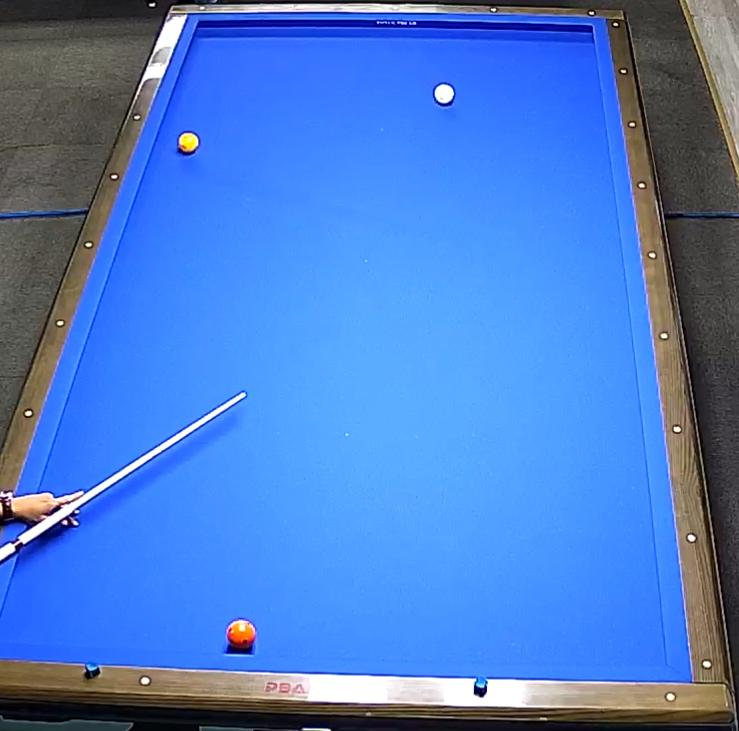orange ball: (223, 613, 259, 662)
white ball: (427, 77, 460, 117)
yellow ball: (175, 129, 198, 161)
